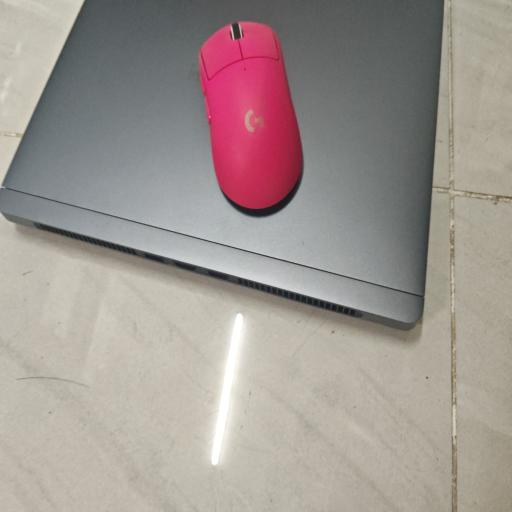laptop: (0, 2, 450, 334)
mouse: (199, 22, 302, 208)
